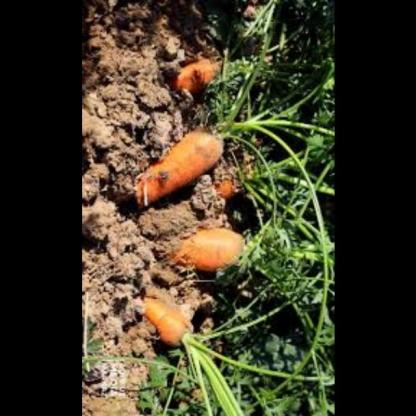carrot: (128, 130, 230, 206), (164, 230, 252, 271), (136, 295, 198, 348), (172, 56, 217, 96)
